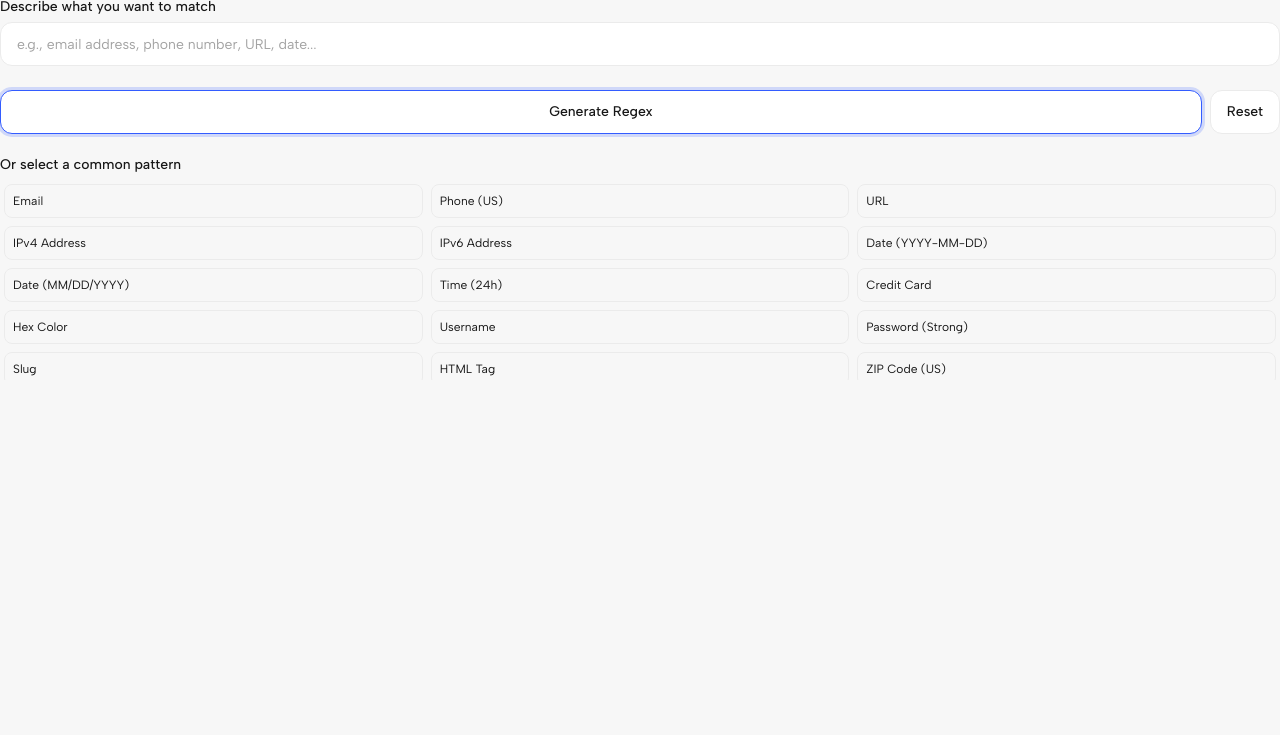
Test case: RegexGeneratorTool › generates phone pattern from description
This screenshot has width=1280, height=735.
Type "phone number" into the field with placeholder "e.g., email address, phone number, URL, date..." at (640, 44), box x1=0 y1=22 x2=1279 y2=66
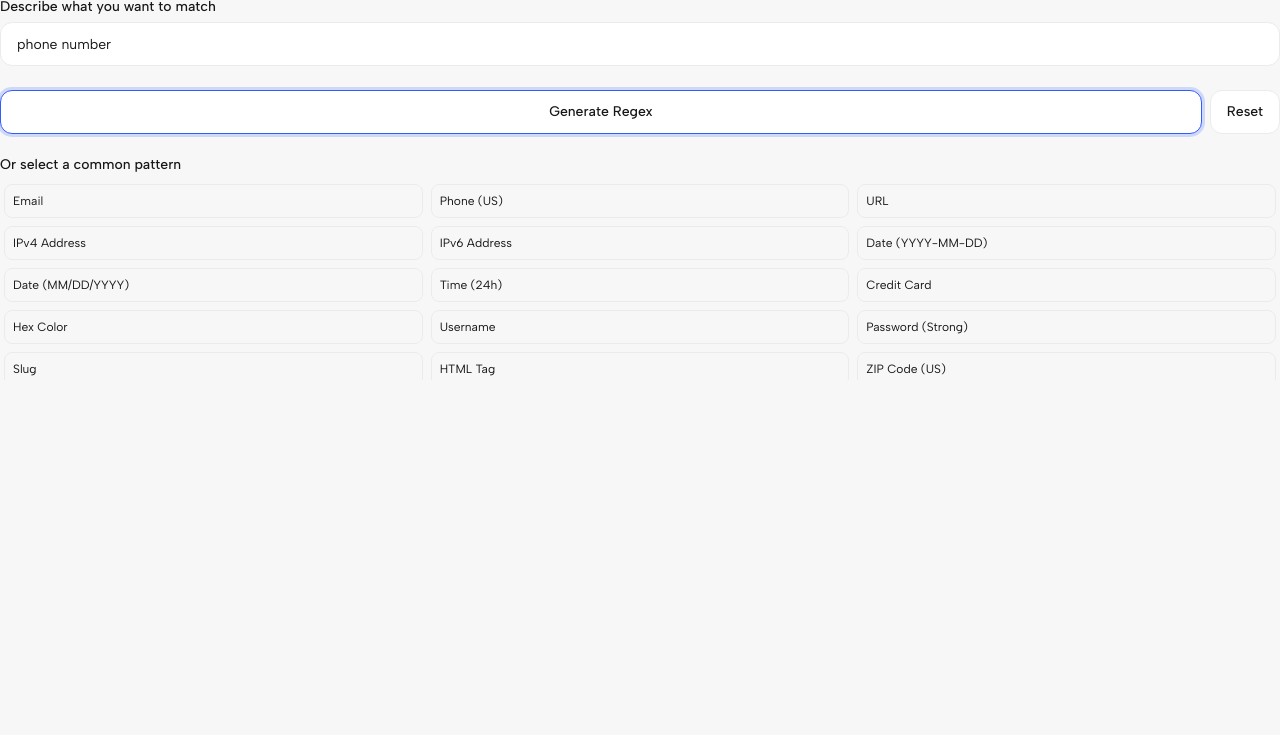
Click the button "Generate Regex" at (601, 112), box x1=0 y1=90 x2=1202 y2=134
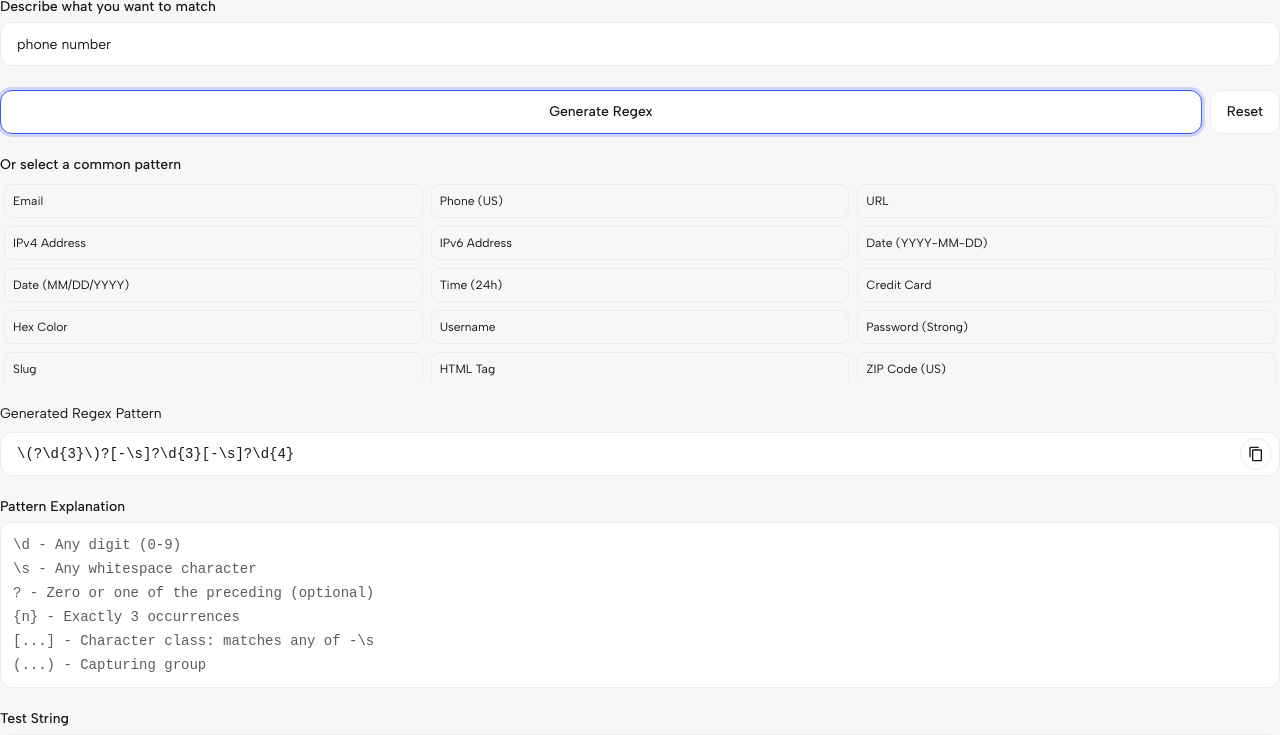
Expected: the text "Generated Regex Pattern" is shown, x1=0 y1=405 x2=162 y2=422
